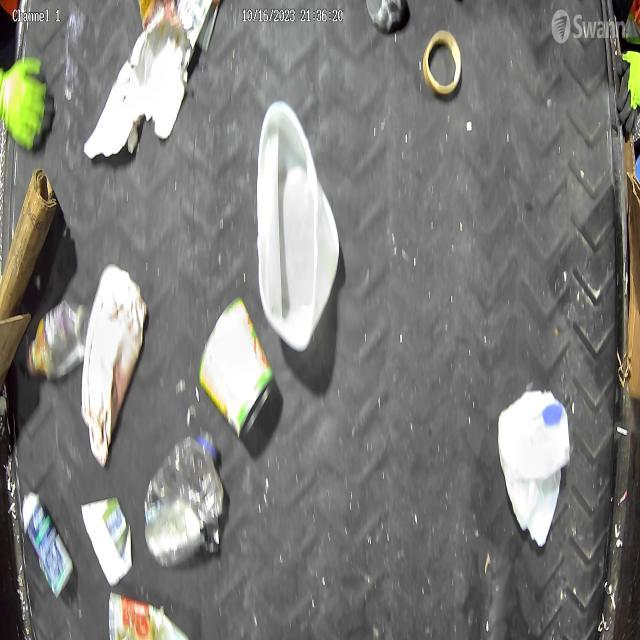can: (197, 296, 276, 438)
milk_jug: (256, 100, 340, 352), (498, 390, 571, 549)
plastic_bottle: (144, 430, 226, 568), (25, 297, 90, 382)
